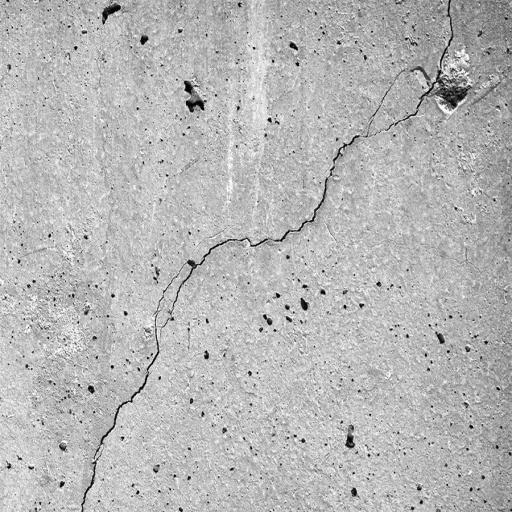spalling: (72, 13, 459, 511)
